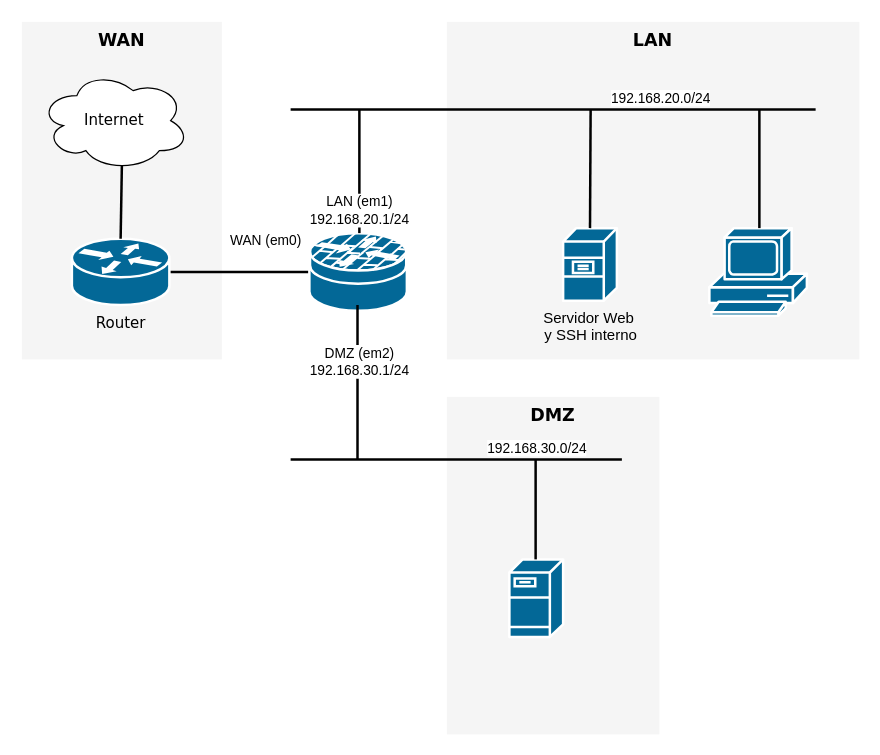
Some shapes in this 880 by 755 pixel diagram are drawn without their labels. Each missing label, with the box of its shape:
Cliente: (708, 226, 808, 316)
pfSense: (308, 231, 408, 311)
Servidor web y SSH DMZ: (508, 558, 564, 638)
